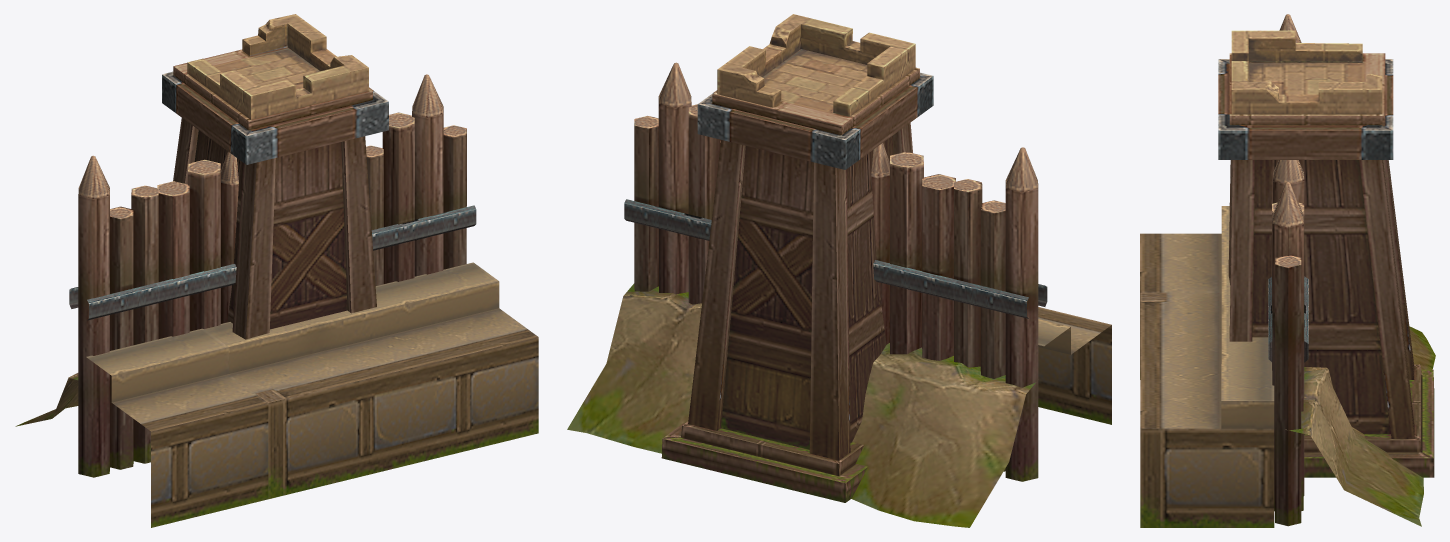
File: ShiJie_ChengQiang_12.FBX
3 views of the same model, side by side, from view 1: azimuth 30°, elevation 25°; view 2: azimuth 150°, elevation 25°; view 3: azimuth 270°, elevation 25° (orthographic). The views are drawn at different scales.
Parts seen in each view (by area): view 1: ShiJie_ChengQiang_12; view 2: ShiJie_ChengQiang_12; view 3: ShiJie_ChengQiang_12.
Boxes of the visible parts, bbox=[...] form: ShiJie_ChengQiang_12: bbox=[15, 14, 538, 527]; ShiJie_ChengQiang_12: bbox=[567, 14, 1111, 527]; ShiJie_ChengQiang_12: bbox=[1140, 14, 1435, 527].
Bounding box in the file's own units: 100 × 90.11 × 64.29.
